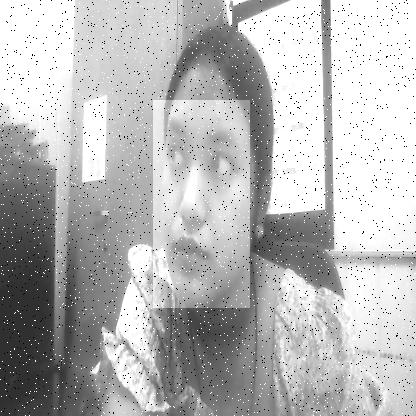Distracted: (153, 100, 250, 308)
